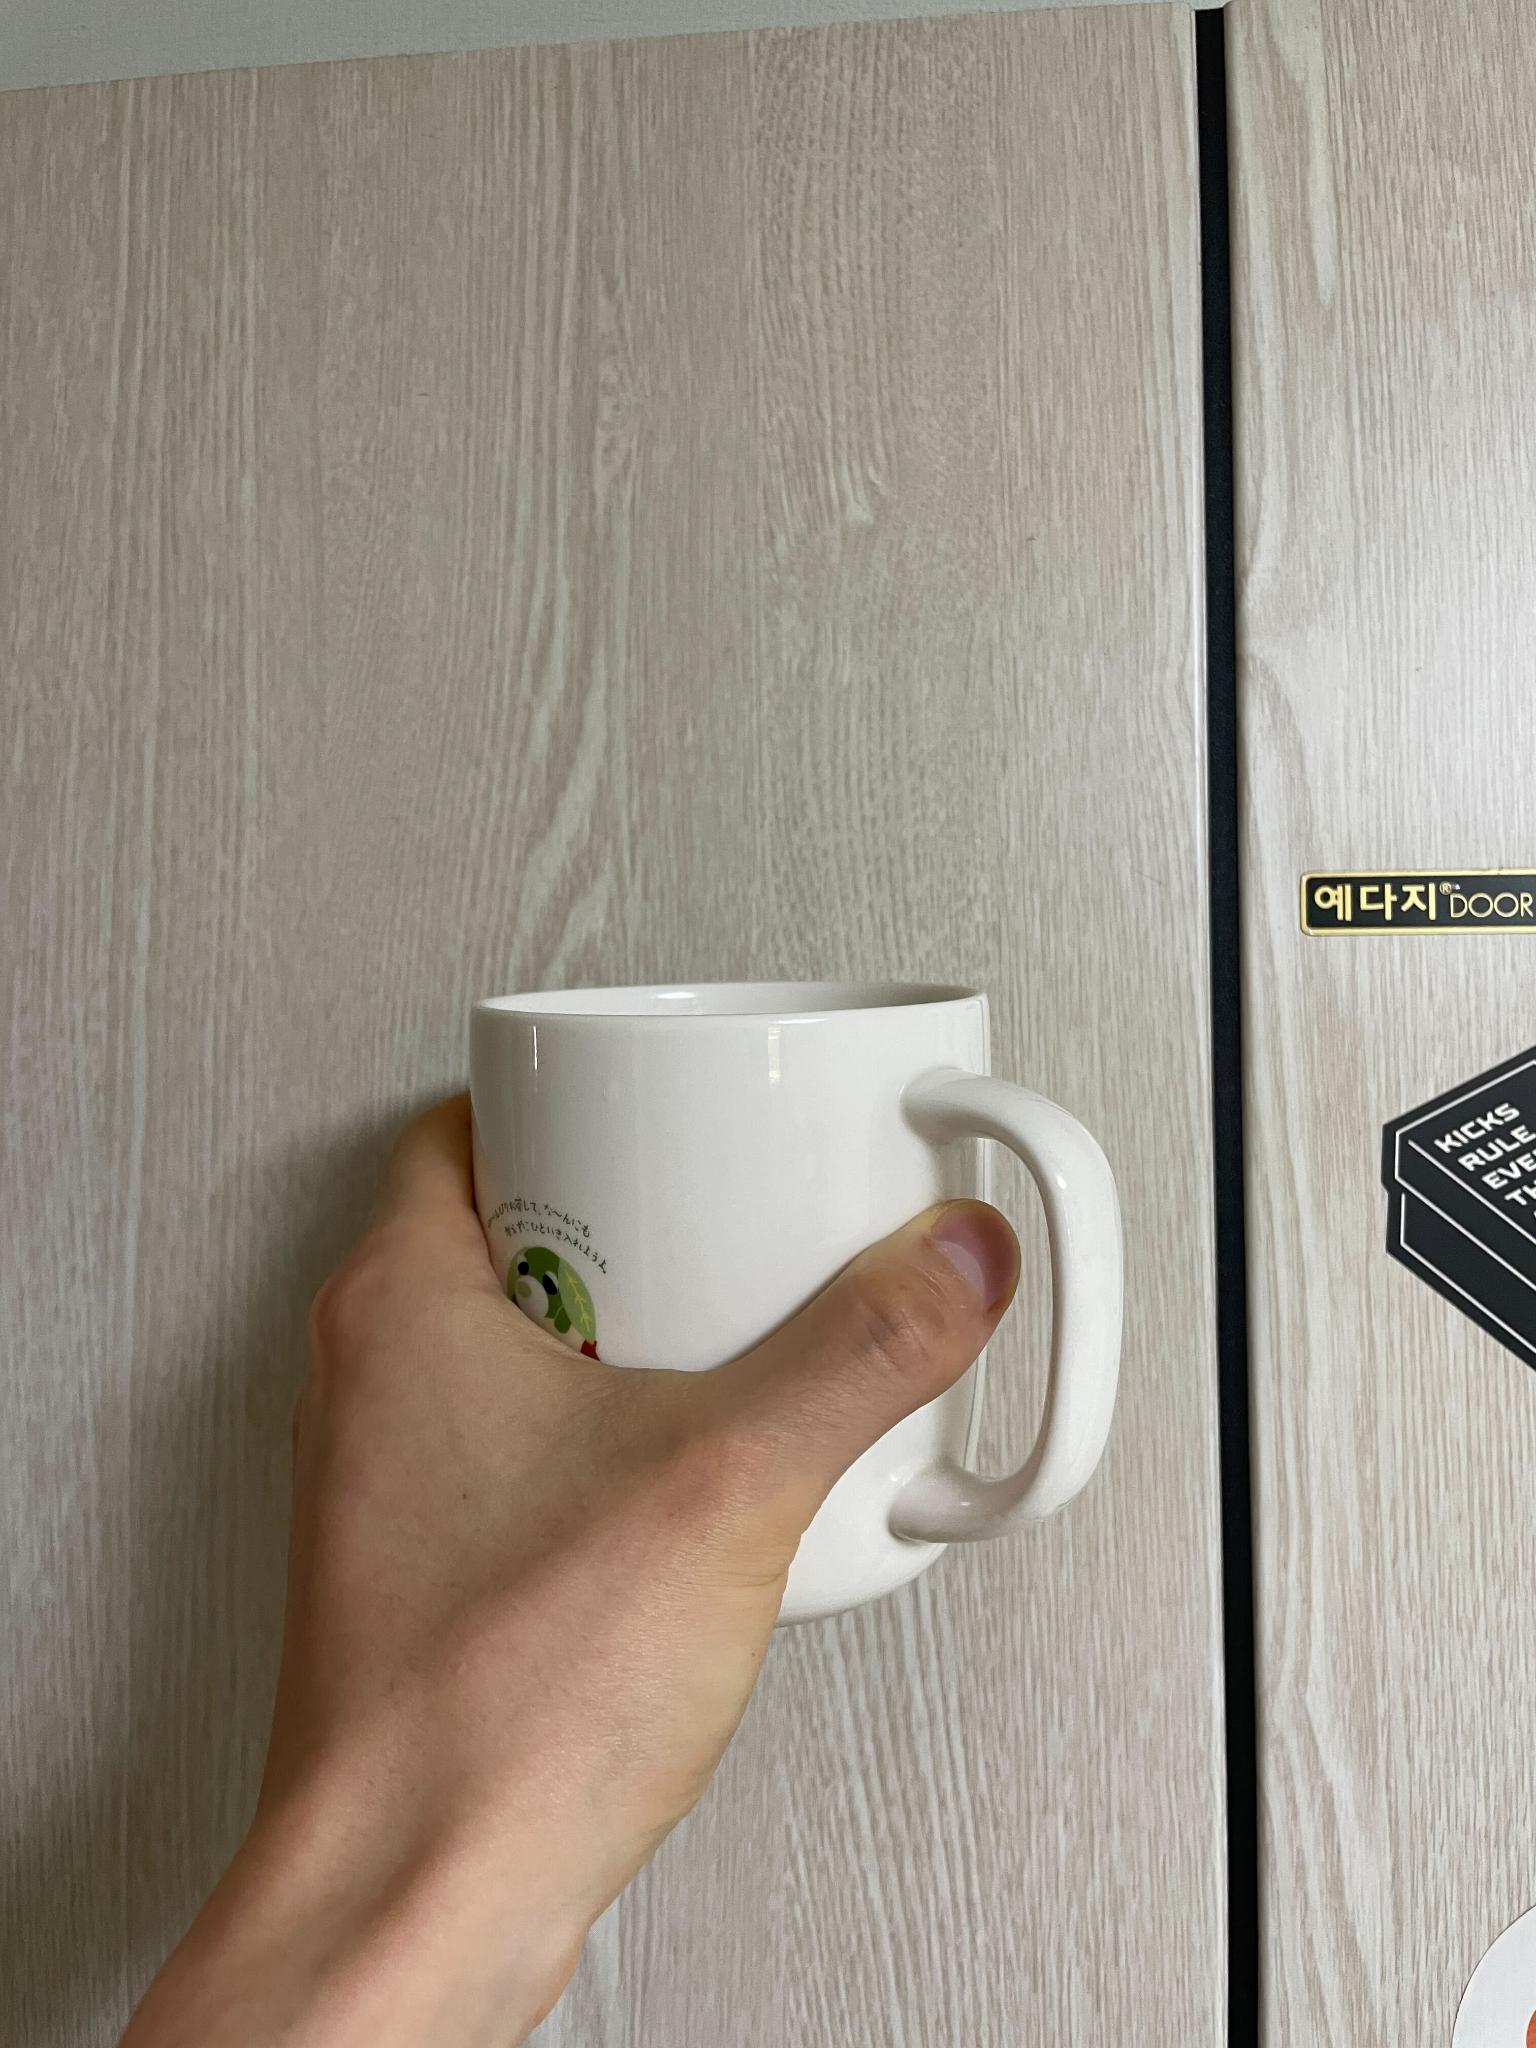cup: (244, 964, 1141, 1948)
